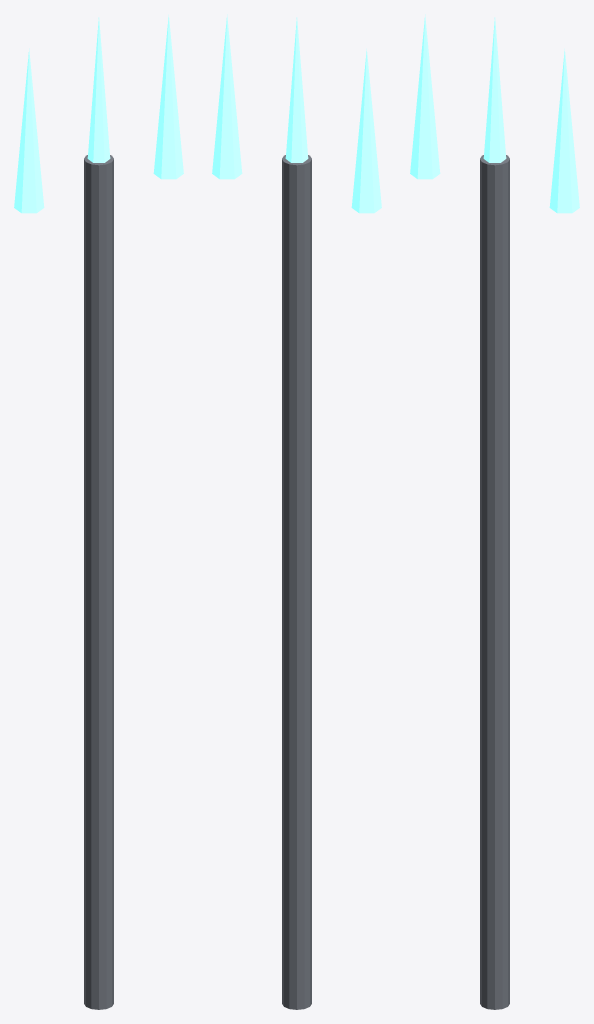
The model's file is chaos_lightning_staff.glb.
3 renders of one model, left to right at view 1: azimuth 30°, elevation 25°; view 2: azimuth 150°, elevation 25°; view 3: azimuth 330°, elevation 25°, orthographic.
Parts seen in each view (by area): view 1: Cylinder, Cone.002, Cone, Cone.001; view 2: Cylinder, Cone.002, Cone, Cone.001; view 3: Cylinder, Cone, Cone.002, Cone.001.
Part boxes in pixels (box(x1,y1,x2,y2)): Cylinder: box(84, 155, 113, 1009); Cone.002: box(153, 14, 183, 179); Cone: box(14, 48, 44, 213); Cone.001: box(87, 17, 110, 162); Cylinder: box(282, 155, 311, 1009); Cone.002: box(212, 14, 242, 179); Cone: box(351, 48, 381, 213); Cone.001: box(285, 17, 308, 162); Cylinder: box(480, 155, 509, 1009); Cone: box(410, 14, 440, 179); Cone.002: box(549, 48, 579, 213); Cone.001: box(483, 17, 506, 162).
Size of the model in its own units: 0.372 by 2.17 by 0.06.
